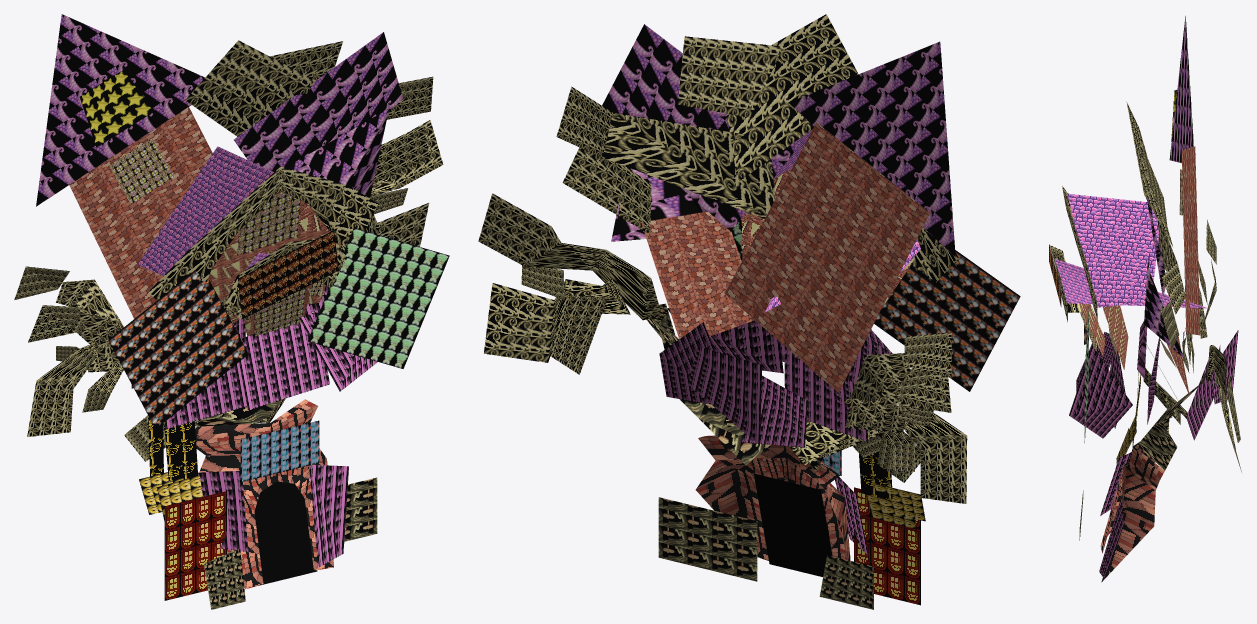
The model's file is 28_magic.gltf.
3 views of the same model, side by side, from view 1: azimuth 30°, elevation 25°; view 2: azimuth 150°, elevation 25°; view 3: azimuth 270°, elevation 25° (orthographic). The views are drawn at different scales.
Visible parts, largest first — view 1: 28_magic; view 2: 28_magic; view 3: 28_magic.
Part boxes in pixels (box(x1,y1,x2,y2)): 28_magic: box(14, 14, 449, 609); 28_magic: box(478, 14, 1020, 609); 28_magic: box(1049, 16, 1241, 582).
Bounding box in the file's own units: 5.94 × 7.46 × 2.73.
18 materials, 18 textured.
